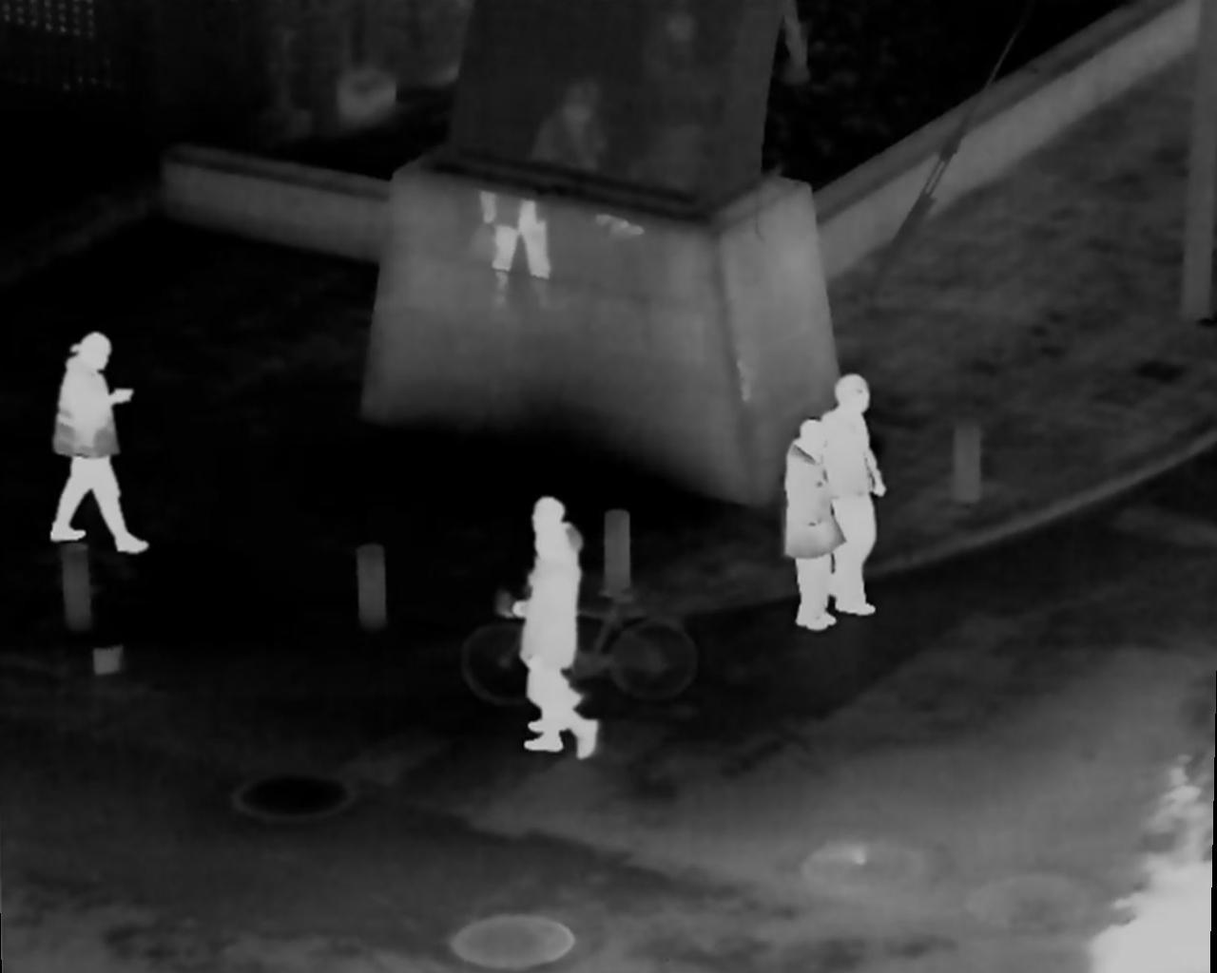person: (53, 334, 152, 555), (525, 524, 598, 761), (823, 374, 881, 623), (787, 422, 843, 631)
